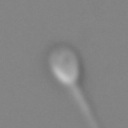normal: (70, 83, 97, 128)
